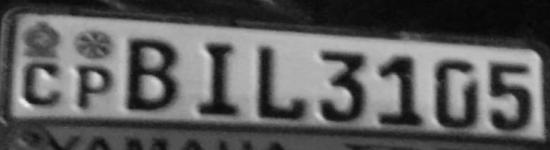0: (429, 55, 483, 133)
1: (371, 50, 429, 128)
3: (310, 45, 370, 124)
5: (482, 56, 538, 134)
B: (123, 34, 184, 112)
C: (18, 59, 64, 110)
I: (187, 36, 249, 120)
L: (251, 41, 310, 123)
P: (67, 61, 116, 112)
